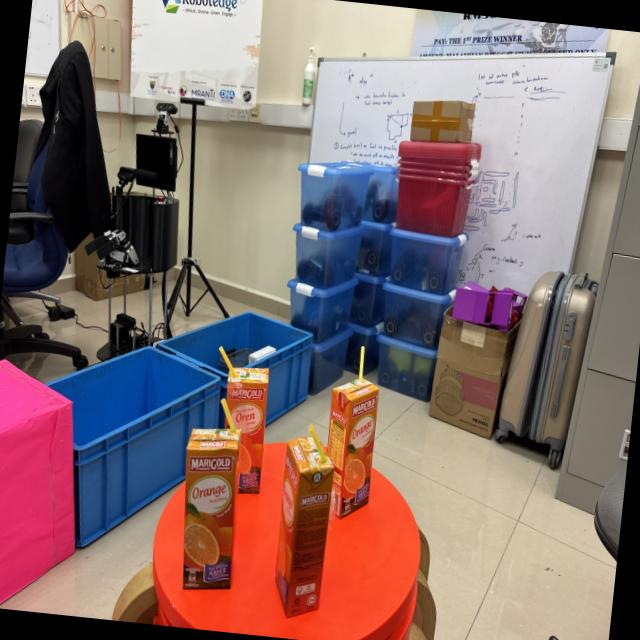drink_carton: (316, 338, 392, 529)
